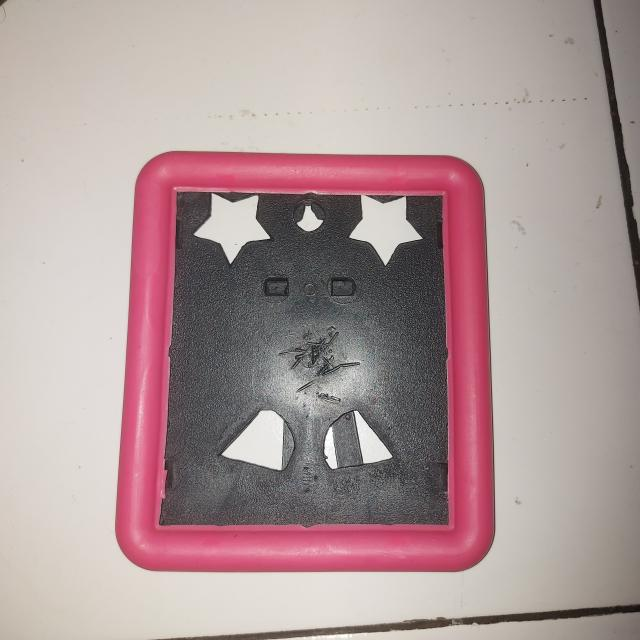Anorganik: (112, 150, 498, 576)
